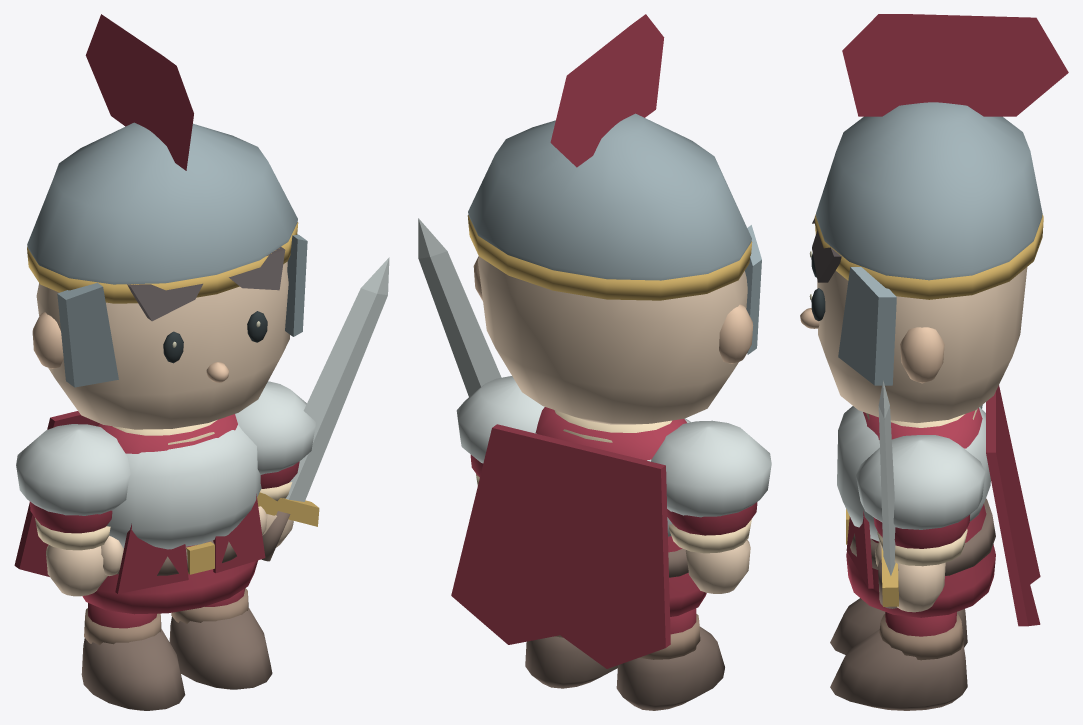
Rendered from knight.glb.
3 renders of one model, left to right at view 1: azimuth 30°, elevation 25°; view 2: azimuth 150°, elevation 25°; view 3: azimuth 270°, elevation 25°, orthographic. The views are drawn at different scales.
Parts seen in each view (by area): view 1: Regional helmet, Soft cheek head, Rounded breastplate, Roman horsehair fan, Big shoulder armour, Short folded tunic, Shaped bevel sword, Round leather boot, Round leather boot.001, Roman cheekplate, Big shoulder armour.001, Helmet brow band (+18 smaller); view 2: Short scalloped cape, Regional helmet, Soft cheek head, Roman horsehair fan, Big shoulder armour, Helmet brow band, Shaped bevel sword, Round leather boot, Short folded tunic, Big shoulder armour.001, Round leather boot.001, Little mitten (+6 smaller); view 3: Regional helmet, Roman horsehair fan, Soft cheek head, Big shoulder armour.001, Round leather boot.001, Short scalloped cape, Short folded tunic, Roman cheekplate.001, Rounded breastplate, Helmet brow band, Shaped bevel sword, Ear.001 (+10 smaller).
Part boxes in pixels (<box>): Regional helmet: <box>27,122,297,284</box>; Soft cheek head: <box>36,261,289,429</box>; Rounded breastplate: <box>106,425,261,549</box>; Roman horsehair fan: <box>85,14,193,170</box>; Big shoulder armour: <box>16,424,130,515</box>; Short folded tunic: <box>82,414,257,614</box>; Shaped bevel sword: <box>286,257,389,501</box>; Round leather boot: <box>81,628,185,710</box>; Round leather boot.001: <box>169,607,272,689</box>; Roman cheekplate: <box>57,283,118,387</box>; Big shoulder armour.001: <box>235,381,315,474</box>; Helmet brow band: <box>27,222,298,303</box>; Short scalloped cape: <box>451,424,670,668</box>; Regional helmet: <box>468,113,751,280</box>; Soft cheek head: <box>478,256,747,424</box>; Roman horsehair fan: <box>550,14,664,167</box>; Big shoulder armour: <box>651,420,771,517</box>; Helmet brow band: <box>467,215,752,300</box>; Shaped bevel sword: <box>418,218,501,396</box>; Round leather boot: <box>616,626,724,710</box>; Short folded tunic: <box>535,407,706,616</box>; Big shoulder armour.001: <box>456,376,544,463</box>; Round leather boot.001: <box>525,636,617,688</box>; Little mitten: <box>685,539,750,593</box>; Regional helmet: <box>816,102,1042,280</box>; Roman horsehair fan: <box>842,14,1068,116</box>; Soft cheek head: <box>817,267,1027,422</box>; Big shoulder armour.001: <box>856,435,985,529</box>; Round leather boot.001: <box>830,629,967,710</box>; Short scalloped cape: <box>986,385,1040,626</box>; Short folded tunic: <box>846,408,995,617</box>; Roman cheekplate.001: <box>838,267,896,385</box>; Rounded breastplate: <box>837,406,990,541</box>; Helmet brow band: <box>814,214,1043,299</box>; Shaped bevel sword: <box>878,380,895,575</box>; Ear.001: <box>900,327,944,383</box>.
Size of the model in its own units: 1.04 by 1.79 by 0.664.
